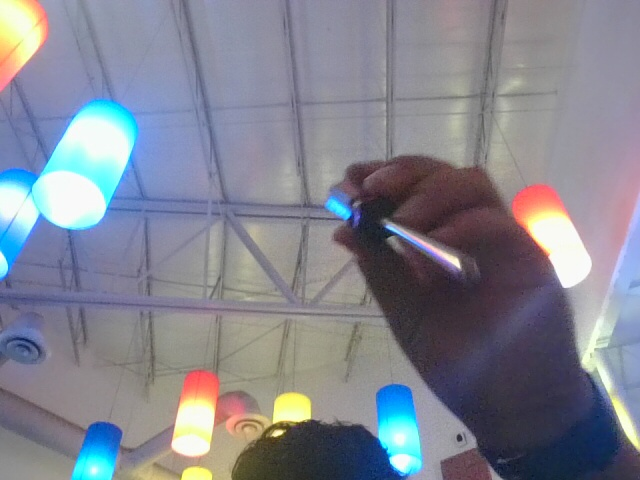destornillador: (230, 161, 483, 313), (234, 187, 483, 294), (316, 176, 482, 291)
